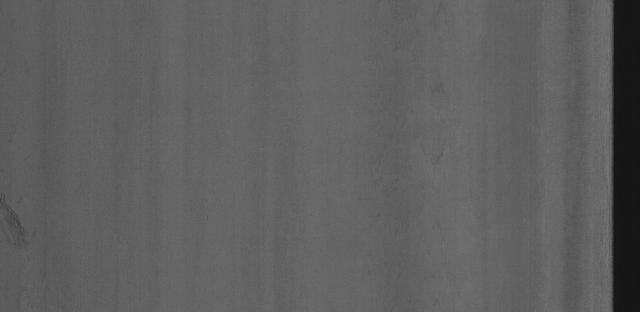water_spot: (0, 185, 43, 262)
